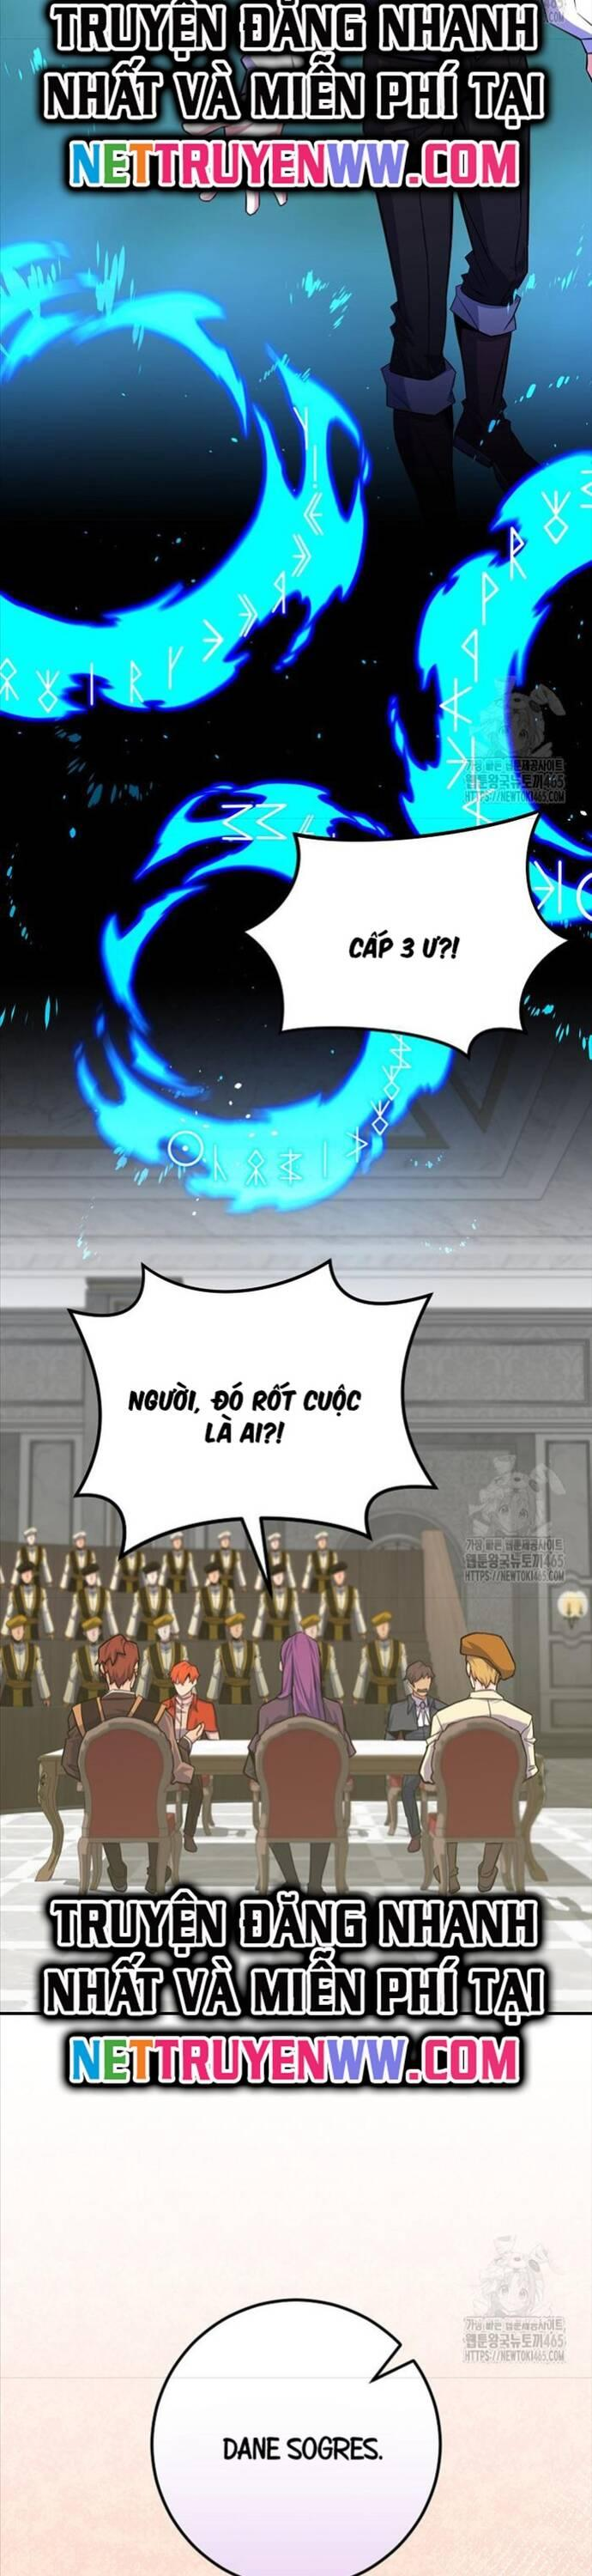quangcao: (34, 1868, 566, 2113), (30, 0, 553, 197)
